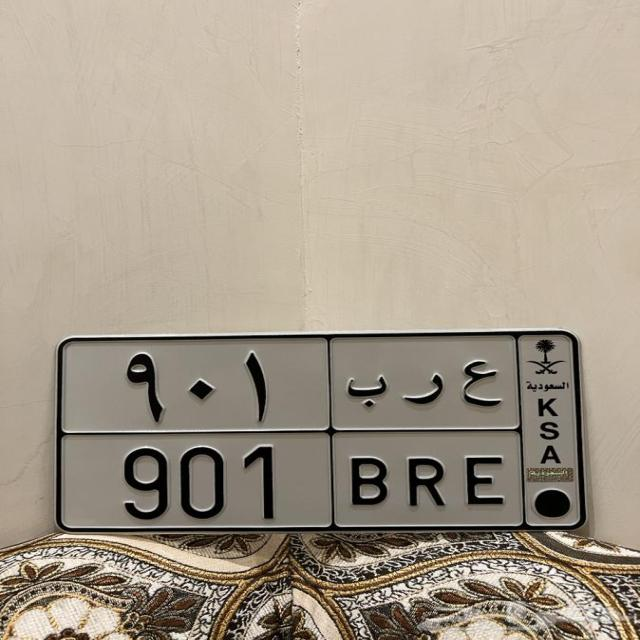license_plate: (58, 427, 528, 535)
